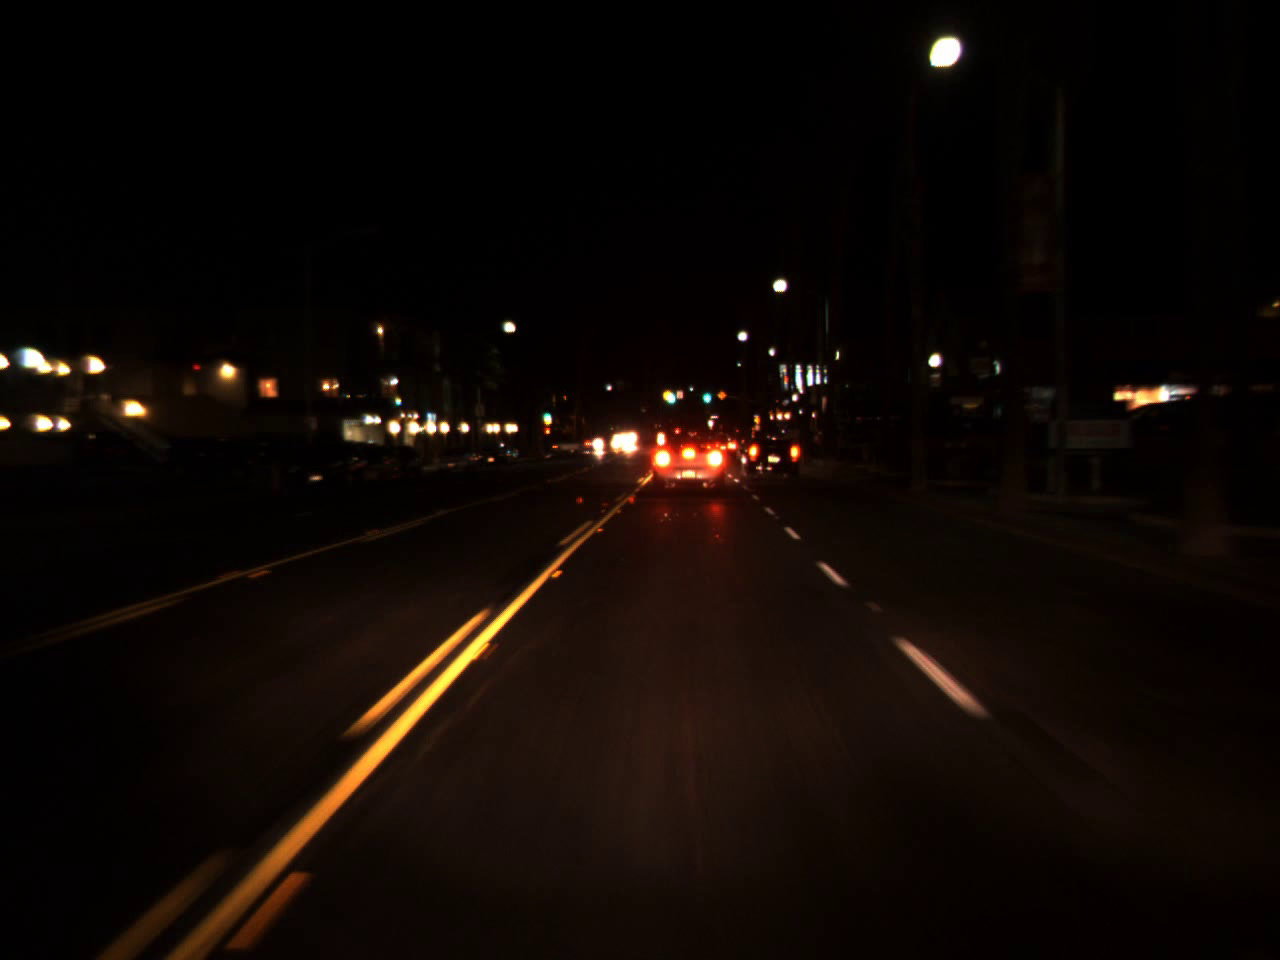go: (700, 380, 712, 407), (664, 384, 676, 405), (541, 406, 550, 421)
